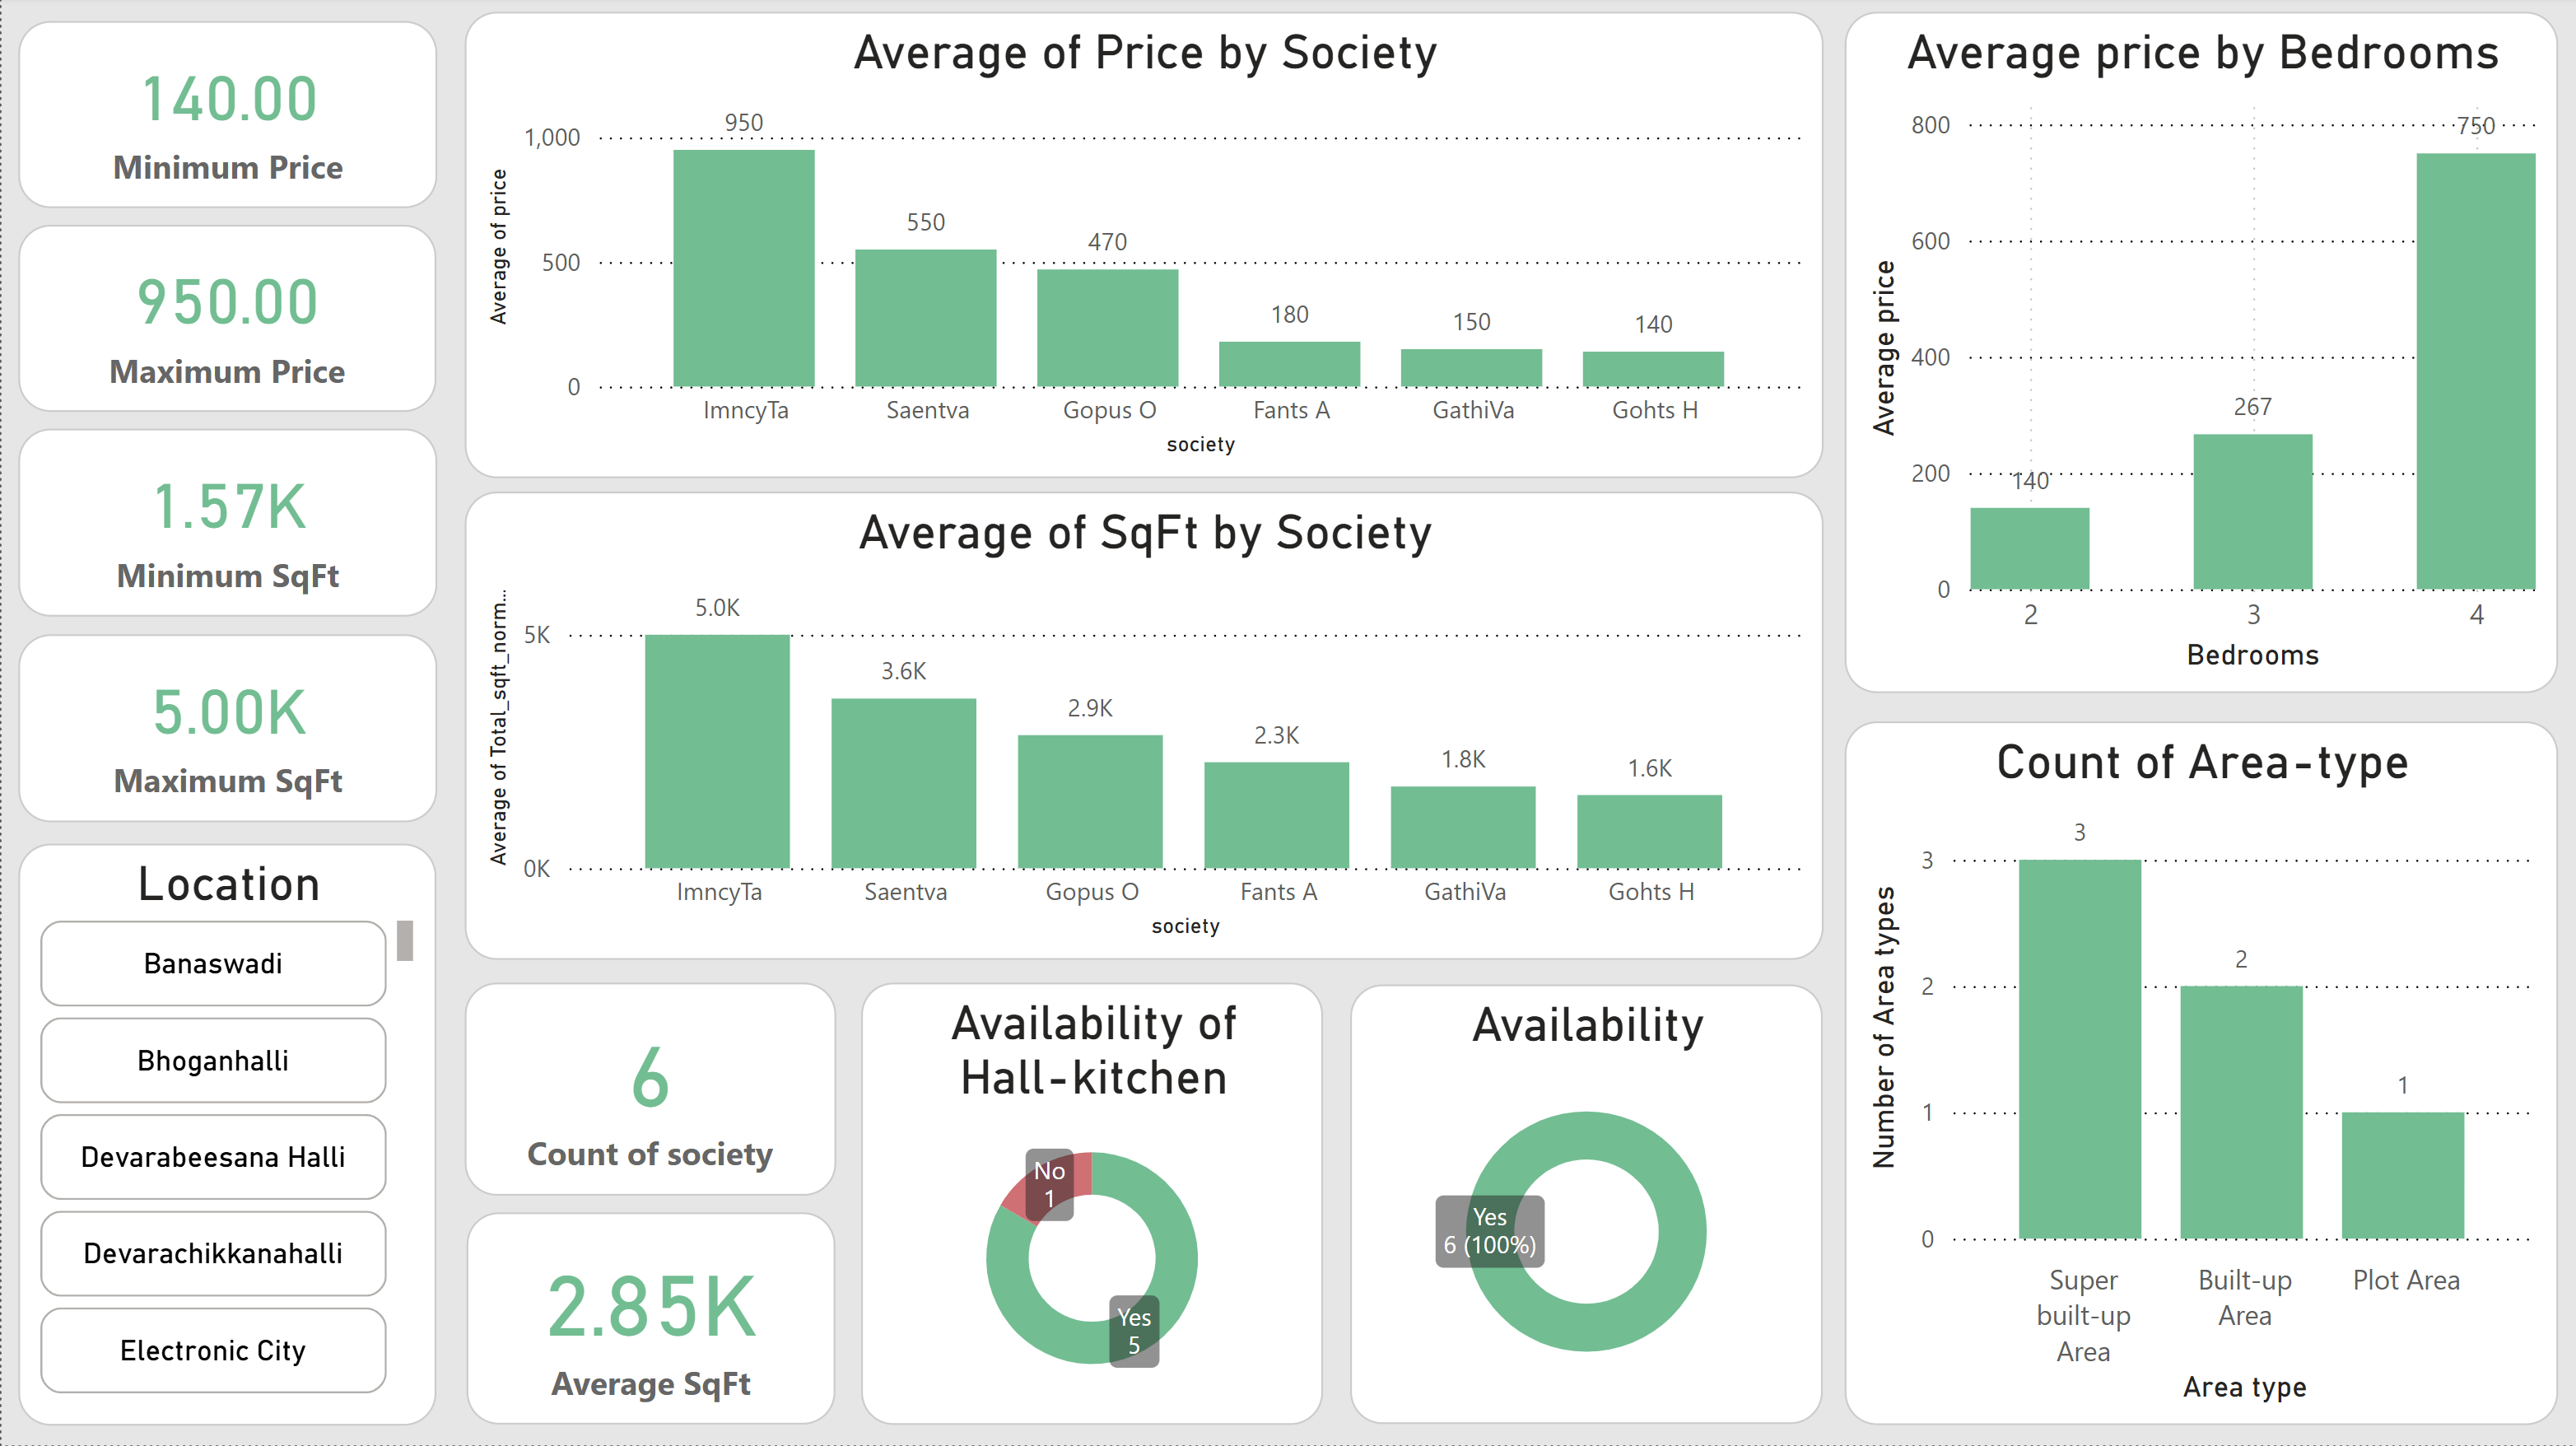

This screenshot's page, from the dashboard's own definition file:
{"tool":"powerbi","page":{"name":"Page 1","canvas":[1280,720],"ordinal":0},"visuals":[{"type":"columnChart","title":"Count of Area-type","fields":{"Category":["Bengaluru_House_Data.area_type"],"Y":["CountNonNull(Bengaluru_House_Data.area_type)"]},"box":[915,360.4,354.3,349.3],"z":0},{"type":"columnChart","fields":{"Y":["Avg(Bengaluru_House_Data.price)"],"Category":["Bengaluru_House_Data.Text Before Delimiter"]},"box":[915,8.1,354.3,338.2],"z":1000},{"type":"card","fields":{"Values":["Max(Bengaluru_House_Data.Total_sqft_normalized)"]},"box":[7.9,317.3,207.9,93.4],"z":2000},{"type":"advancedSlicerVisual","fields":{"Values":["Bengaluru_House_Data.location"]},"box":[8.1,421,207.6,288.8],"z":3000},{"type":"card","fields":{"Values":["Min(Bengaluru_House_Data.price)"]},"box":[7.9,12.9,207.8,93],"z":4000},{"type":"donutChart","title":"Availability","fields":{"Y":["CountNonNull(Bengaluru_House_Data.is_available)"],"Category":["Bengaluru_House_Data.is_available"]},"box":[669.4,491.2,234.5,218.4],"z":5000},{"type":"donutChart","title":"Availability of Hall-kitchen","fields":{"Y":["CountNonNull(Bengaluru_House_Data.is_available)"],"Category":["Bengaluru_House_Data.Hall_Kitchen"]},"box":[426.8,490.2,229.5,219.4],"z":6000},{"type":"card","fields":{"Values":["Max(Bengaluru_House_Data.price)"]},"box":[7.9,114.2,207.5,92.9],"z":7000},{"type":"columnChart","title":"Average of Price by Society","fields":{"Category":["Bengaluru_House_Data.society"],"Y":["Avg(Bengaluru_House_Data.price)"]},"box":[229.5,8.1,674.5,231.5],"z":8000},{"type":"columnChart","title":"Average of SqFt by Society","fields":{"Category":["Bengaluru_House_Data.society"],"Y":["Avg(Bengaluru_House_Data.Total_sqft_normalized)"]},"box":[229.5,246.6,674.5,232.5],"z":9000},{"type":"card","fields":{"Values":["CountNonNull(Bengaluru_House_Data.society)"]},"box":[230,490.6,184.3,105.8],"z":10000},{"type":"card","fields":{"Values":["Avg(Bengaluru_House_Data.Total_sqft_normalized)"]},"box":[230.5,604.7,183.3,105.4],"z":11000},{"type":"card","fields":{"Values":["Min(Bengaluru_House_Data.Total_sqft_normalized)"]},"box":[7.9,215.5,207.9,93.4],"z":12000}]}

Visuals, with their boxes in screenshot pixels (x1, y1, x2, y2), scaled from the page's 1280x720 canvas onto the 2576x1446 screenshot:
"Count of Area-type" columnChart: Rect(1842, 724, 2555, 1425)
columnChart - Avg(Bengaluru_House_Data.price) x Bengaluru_House_Data.Text Before Delimiter: Rect(1842, 16, 2555, 696)
card - Max(Bengaluru_House_Data.Total_sqft_normalized): Rect(16, 637, 435, 825)
advancedSlicerVisual - Bengaluru_House_Data.location: Rect(16, 846, 434, 1425)
card - Min(Bengaluru_House_Data.price): Rect(16, 26, 434, 212)
"Availability" donutChart: Rect(1347, 987, 1819, 1425)
"Availability of Hall-kitchen" donutChart: Rect(859, 985, 1321, 1425)
card - Max(Bengaluru_House_Data.price): Rect(16, 230, 434, 416)
"Average of Price by Society" columnChart: Rect(462, 16, 1819, 481)
"Average of SqFt by Society" columnChart: Rect(462, 495, 1819, 962)
card - CountNonNull(Bengaluru_House_Data.society): Rect(463, 986, 834, 1198)
card - Avg(Bengaluru_House_Data.Total_sqft_normalized): Rect(463, 1215, 833, 1426)
card - Min(Bengaluru_House_Data.Total_sqft_normalized): Rect(16, 433, 435, 620)
